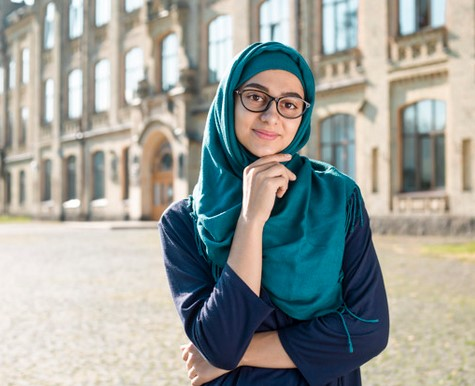face_no_mask: (225, 52, 311, 160)
